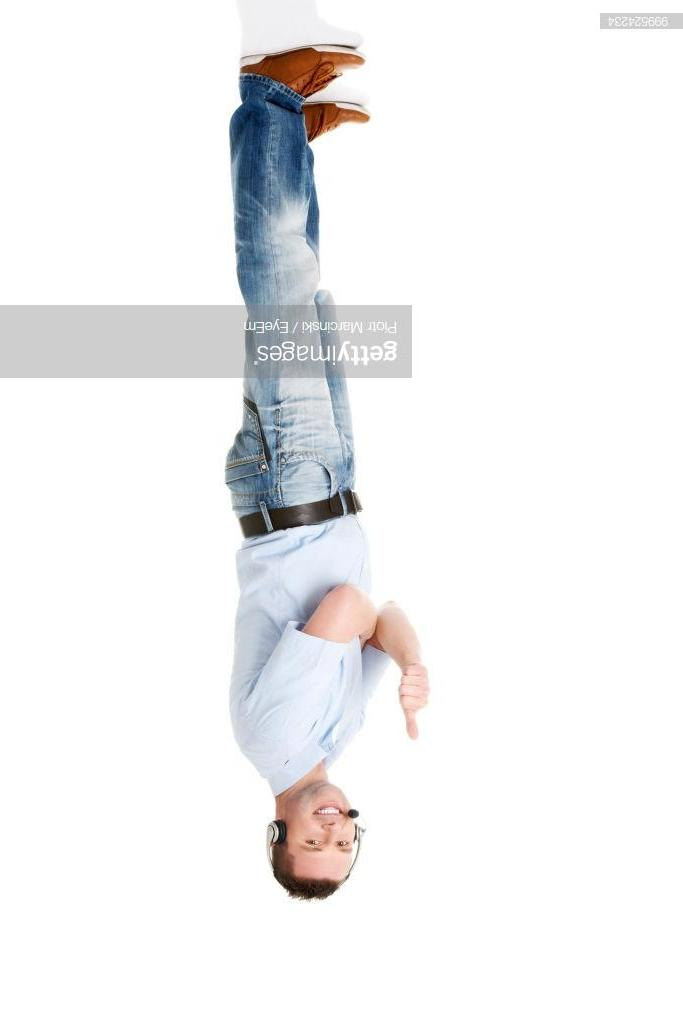thumbsdown: (399, 663, 430, 740)
